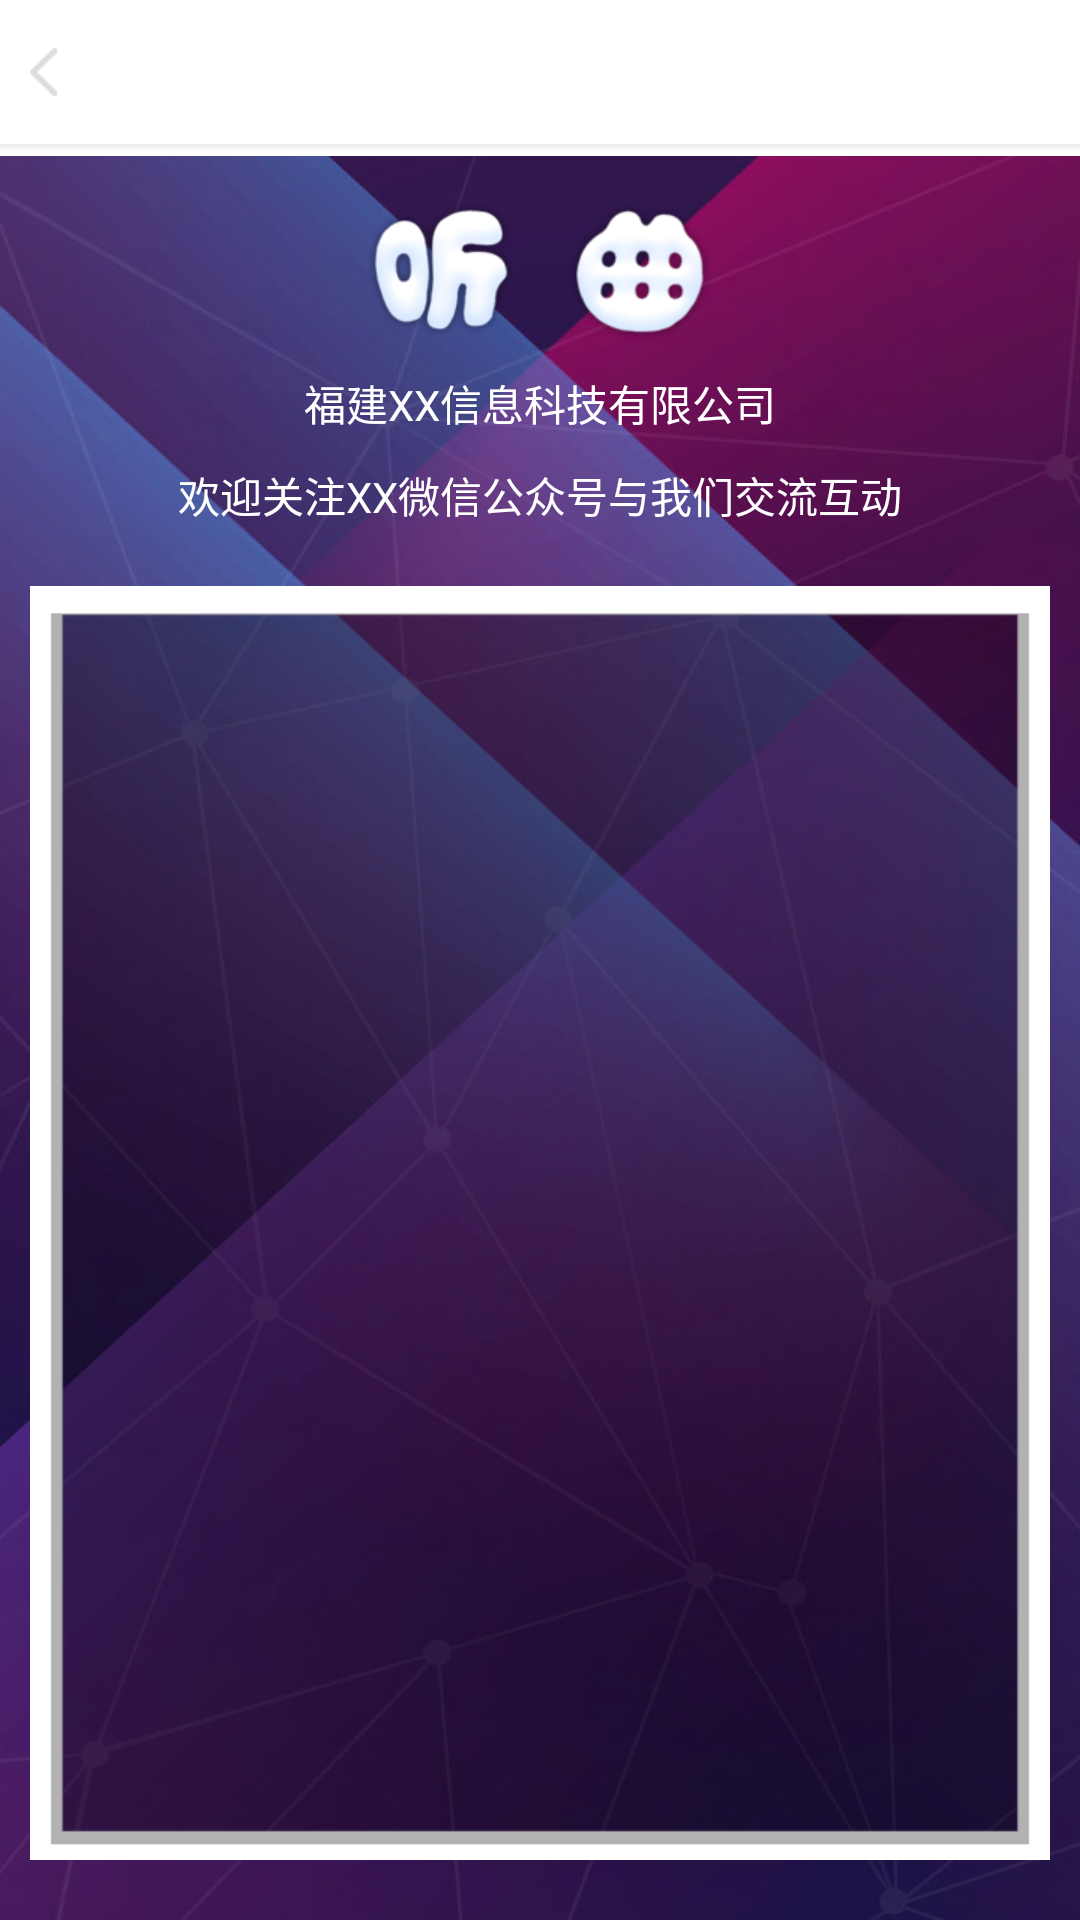

Named icons in this screenshot (1080x1920) and their bounding boxes, (left=x1, top=y1, right=x2, bottom=y2):
back: (left=30, top=48, right=57, bottom=96)
